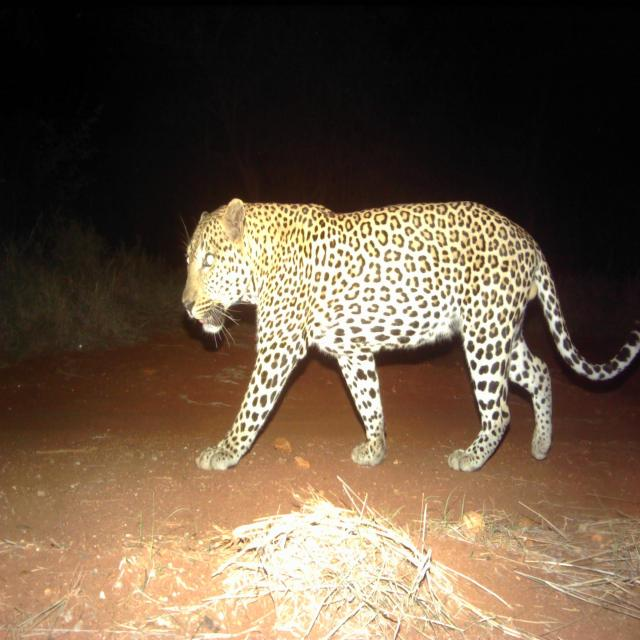Leopard: (176, 202, 634, 486)
